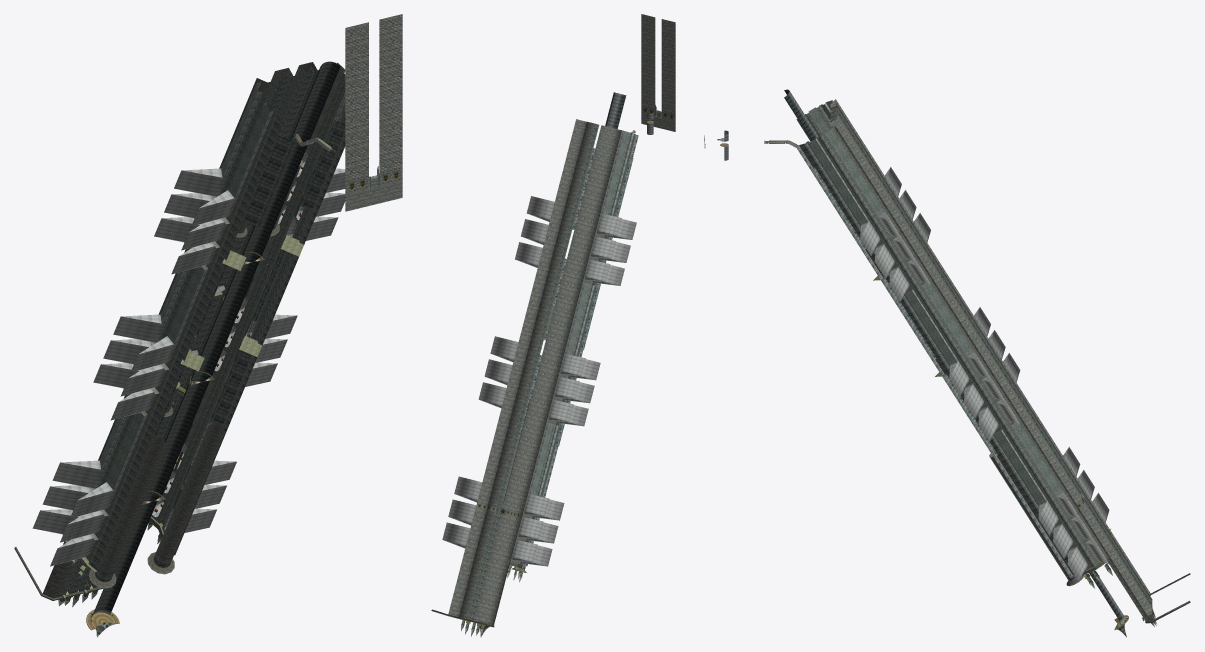
Rendered from Hang Castle 11.fbx.
3 views of the same model, side by side, from view 1: azimuth 30°, elevation 25°; view 2: azimuth 150°, elevation 25°; view 3: azimuth 270°, elevation 25° (orthographic). The views are drawn at different scales.
Visible parts, largest first — view 1: Object_2.036, Object_2.035, Object_2.033; view 2: Object_2.036, Object_2.035; view 3: Object_2.036, Object_2.035.
Part boxes in pixels (<box>): Object_2.036: <box>14,14,402,637</box>; Object_2.035: <box>83,61,340,621</box>; Object_2.033: <box>63,166,312,601</box>; Object_2.036: <box>431,14,675,637</box>; Object_2.035: <box>605,92,626,129</box>; Object_2.036: <box>704,99,1190,637</box>; Object_2.035: <box>784,89,1128,623</box>.
Bounding box in the file's own units: 464022 × 2302457 × 1664672.
